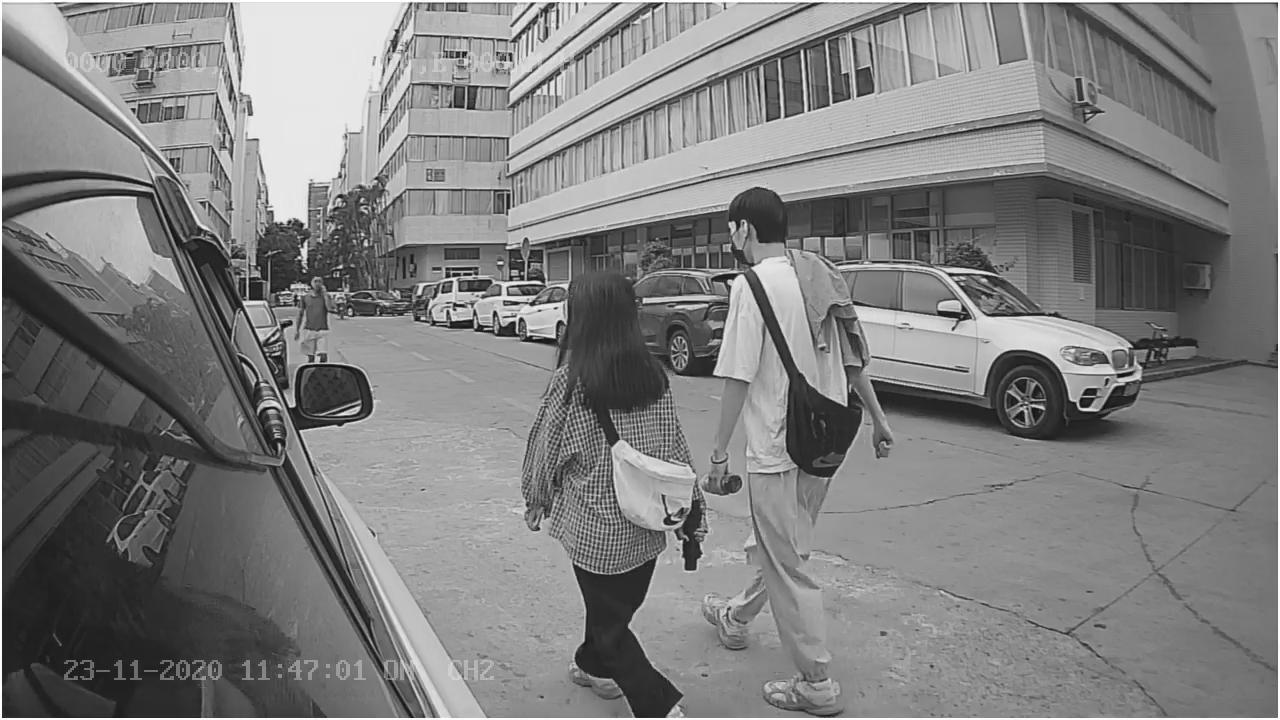person: (710, 173, 901, 715), (515, 246, 699, 716)
